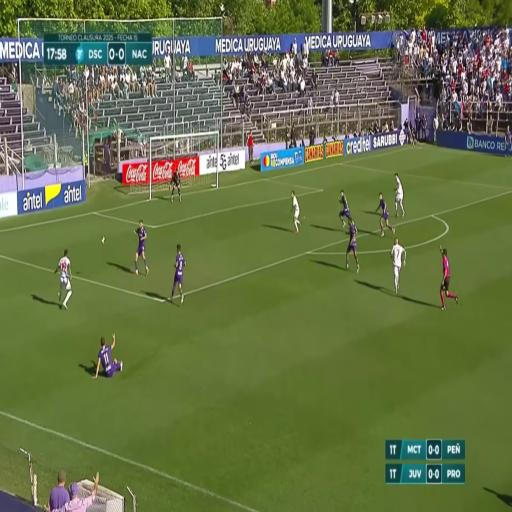Ball: (101, 235, 107, 245)
Goalkeeper: (167, 166, 183, 202)
Player: (93, 331, 125, 379), (55, 248, 74, 309), (132, 218, 150, 278), (391, 234, 408, 295), (375, 191, 397, 237), (172, 242, 186, 306), (344, 217, 358, 272), (288, 186, 303, 237), (393, 168, 405, 222), (336, 184, 351, 216)
Referee: (437, 241, 459, 315)
